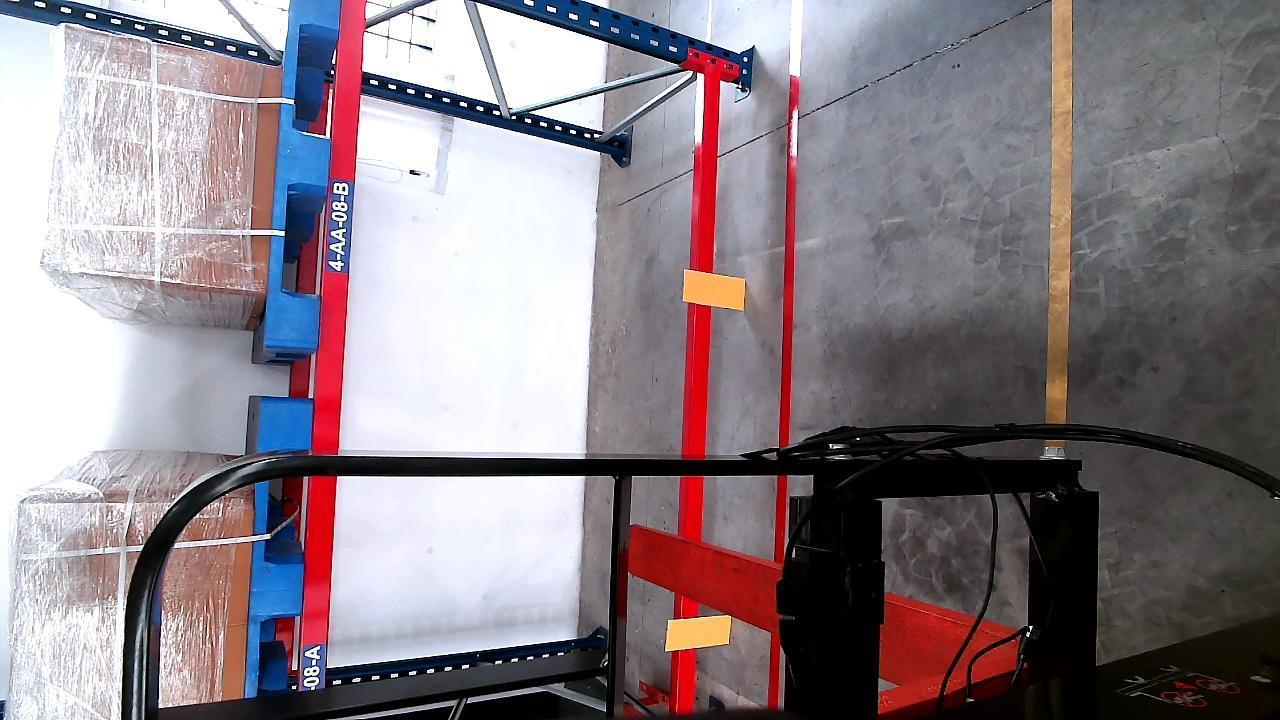h_rack: (302, 0, 367, 689), (676, 65, 720, 720)
orange_strip: (667, 613, 734, 650), (687, 271, 746, 307)
red_line: (771, 67, 800, 709)
small_pallet: (263, 0, 336, 352), (247, 409, 312, 692)
yellow_line: (1047, 0, 1073, 427)
